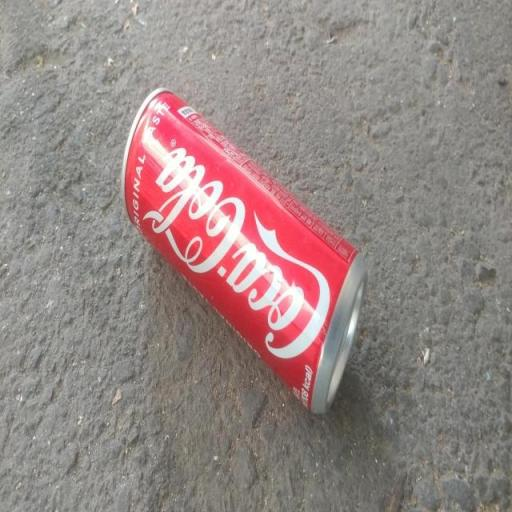metal: (107, 72, 385, 450)
